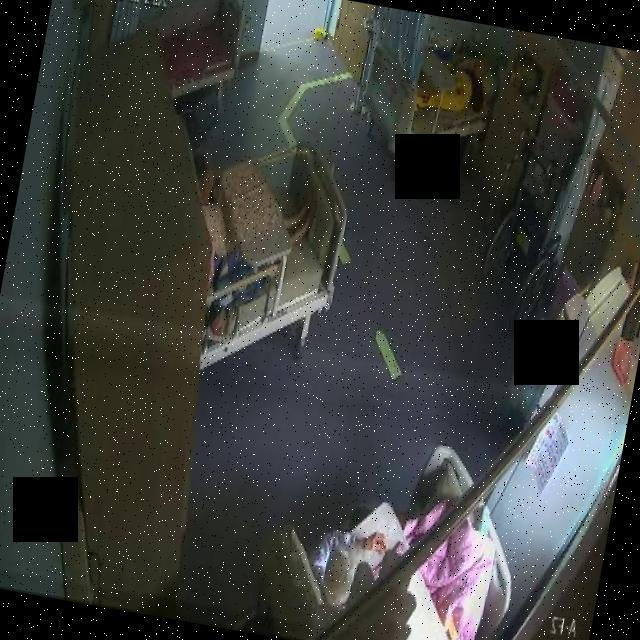bed: (257, 416, 535, 640), (174, 128, 356, 378), (353, 25, 502, 164), (151, 0, 252, 107)
